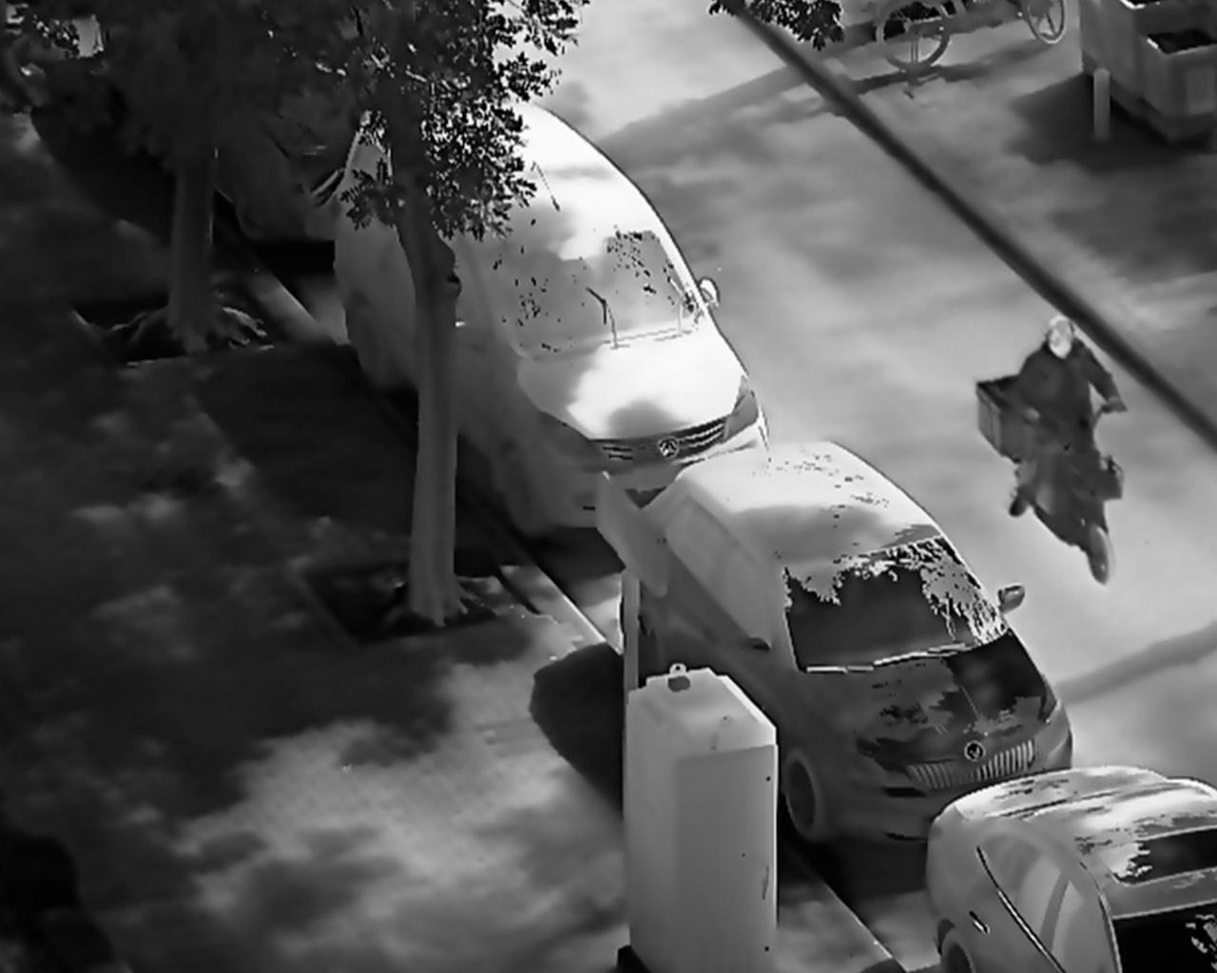person: (1010, 312, 1132, 522)
